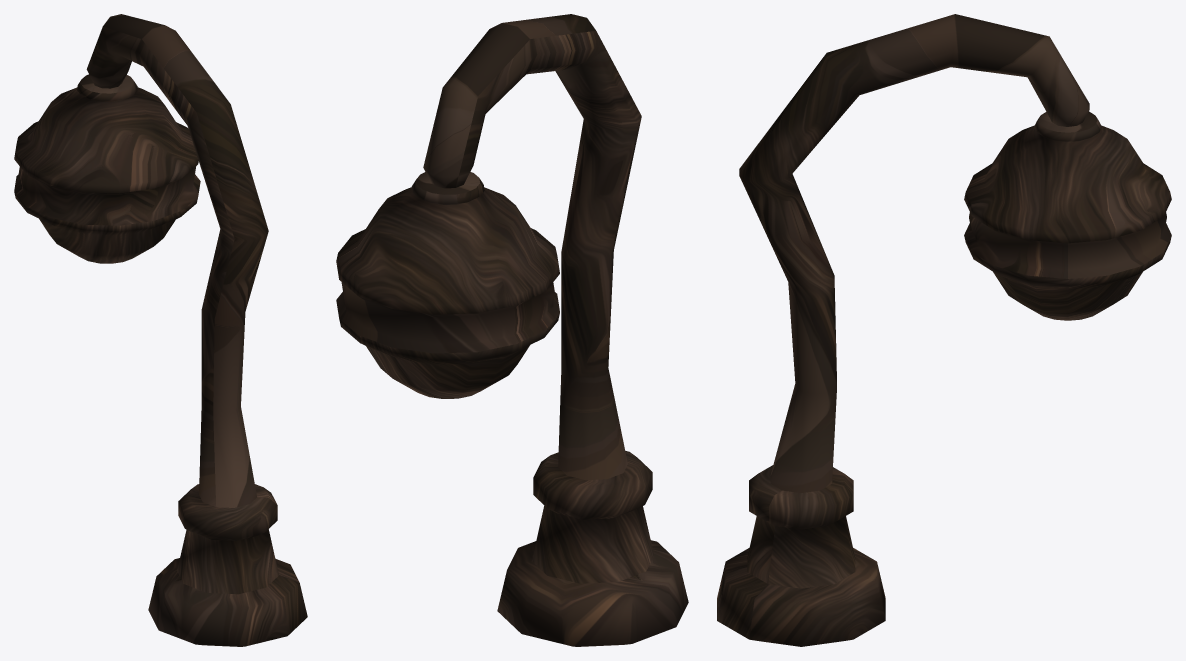
File: CH_CE_Skull_Lantern_Cute.fbx
3 views of the same model, side by side, from view 1: azimuth 30°, elevation 25°; view 2: azimuth 150°, elevation 25°; view 3: azimuth 270°, elevation 25° (orthographic). The views are drawn at different scales.
Parts seen in each view (by area): view 1: CH_CE_Skull_Lantern_Cute; view 2: CH_CE_Skull_Lantern_Cute; view 3: CH_CE_Skull_Lantern_Cute.
Part boxes in pixels (x1,y1,x2,y2): CH_CE_Skull_Lantern_Cute: [14, 14, 307, 646]; CH_CE_Skull_Lantern_Cute: [336, 14, 688, 646]; CH_CE_Skull_Lantern_Cute: [717, 14, 1171, 646].
Size of the model in its own units: 301 by 958 by 658.
